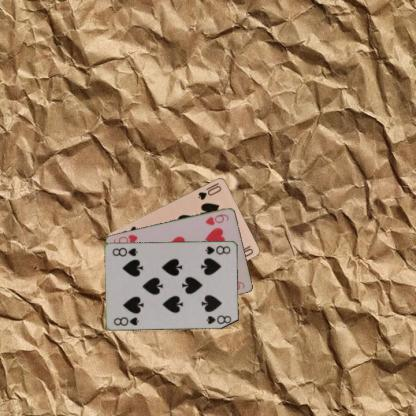10s: (196, 180, 223, 201)
6h: (203, 212, 230, 226)
8s: (112, 314, 140, 327), (203, 243, 232, 255)
